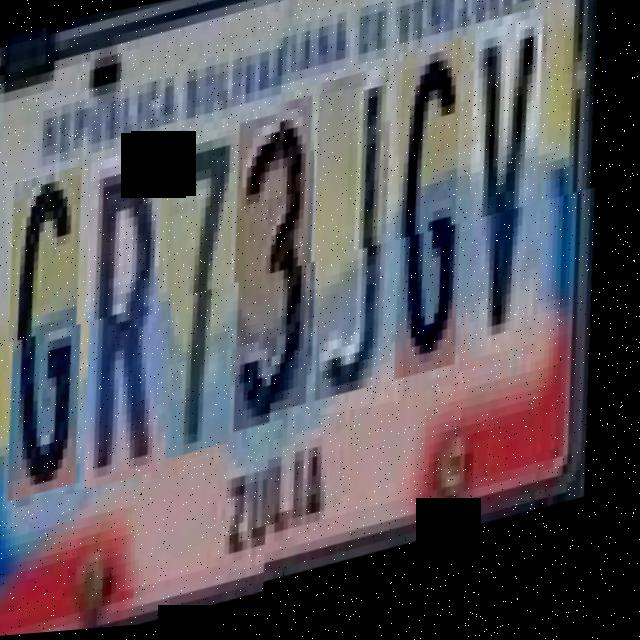3: (215, 112, 353, 442)
7: (146, 130, 278, 467)
G: (374, 59, 504, 405), (0, 165, 124, 504)
J: (295, 85, 431, 423)
R: (64, 146, 207, 495)
V: (445, 30, 586, 388)
